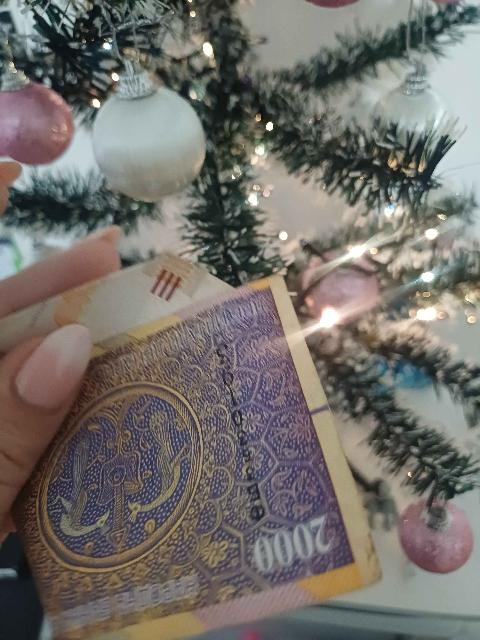note: (16, 278, 379, 639)
